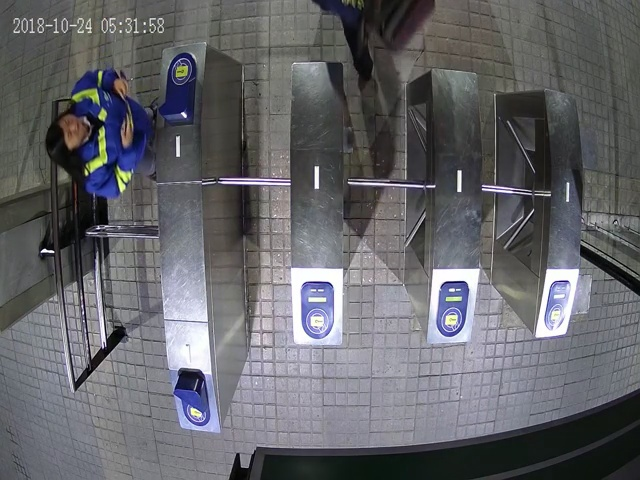Chaleco_azul: (45, 69, 156, 200)
